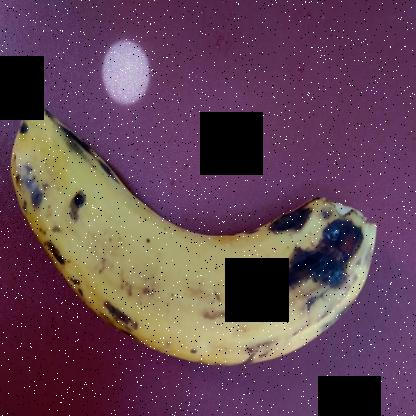overripe: (6, 91, 396, 399)
